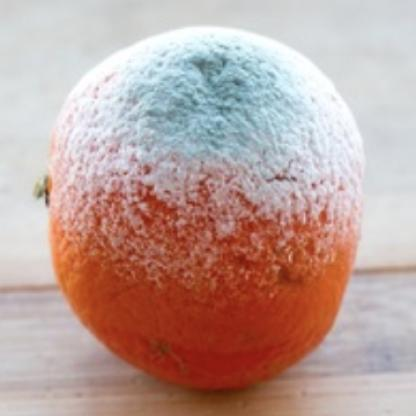rotten: (48, 23, 361, 393)
